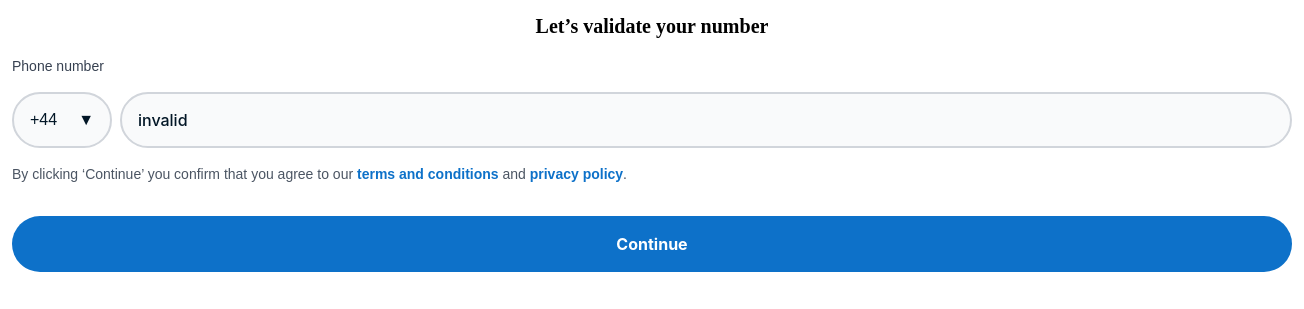
Test: Step Two Component › shows validation error if phone number is invalid
Note: Click the "Continue" button to trigger form submission and validation.
Step 1. Click the button "Continue" → [652, 244], box 12,216 -> 1292,272
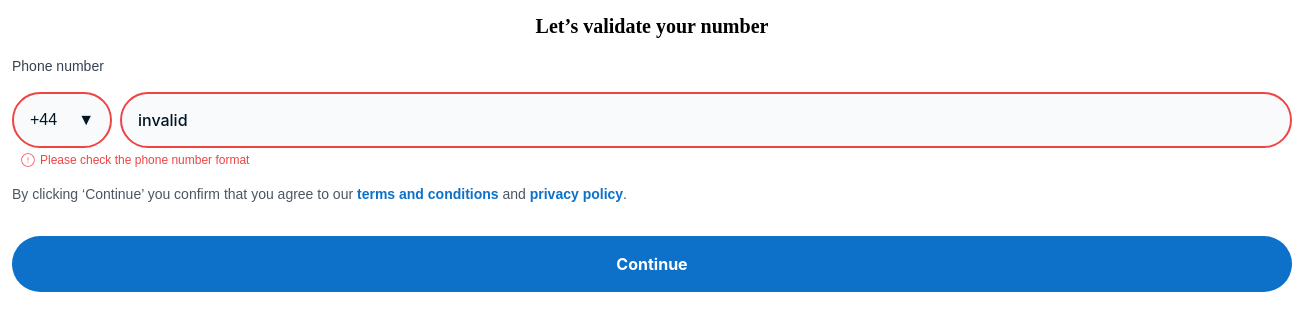
Check: the element with test id "phoneNumber-error" shows "check the phone number format", box 40,153 -> 250,167
